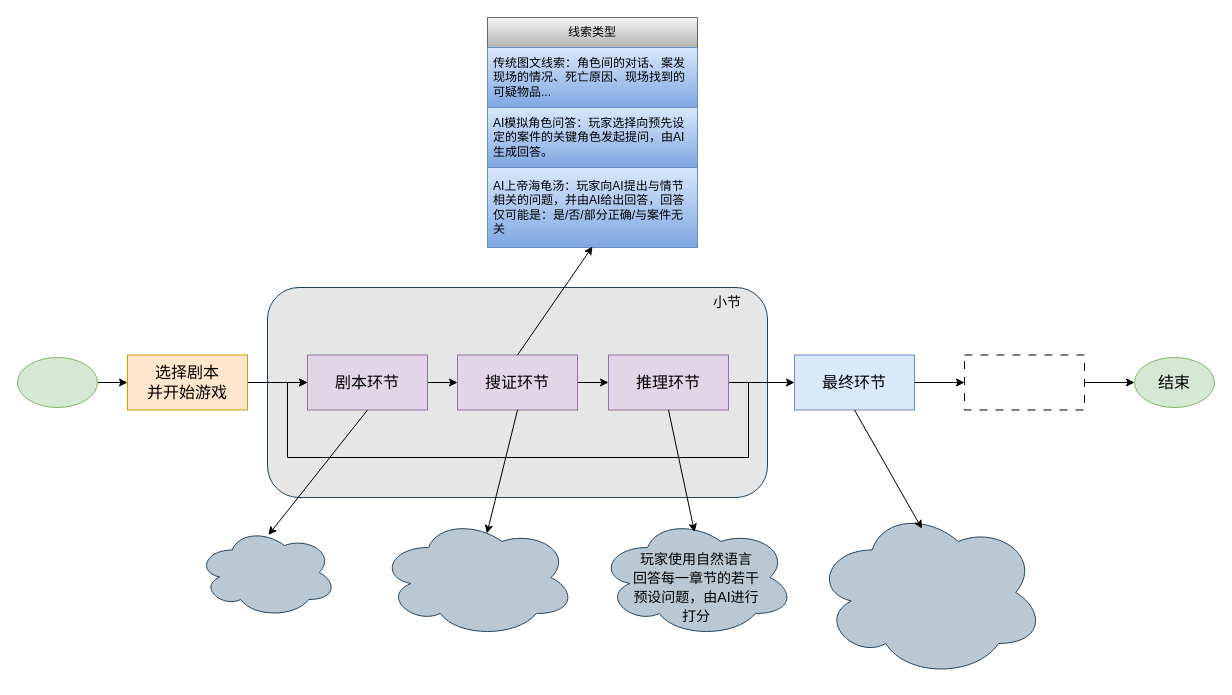
The diagram is 1232 pixels wide and 695 high, and some of its shapes have lost their labels. Here are the shapes that lost their labels. From the top down, the box of each, then its label:
(16, 356, 98, 408): 开始
(964, 354, 1084, 410): 打分评价
(196, 526, 337, 618): 给出每一 部分的 剧本
(378, 516, 576, 638): 提供地图搜证、问答 搜证等多种搜证模式， 系统记录线索，便于 用户梳理
(814, 506, 1044, 678): 玩家使用自然语言 回答与剧情真相有关的 若干问题，最后给出 真相，并对玩家的解答 情况进行汇总和评分
